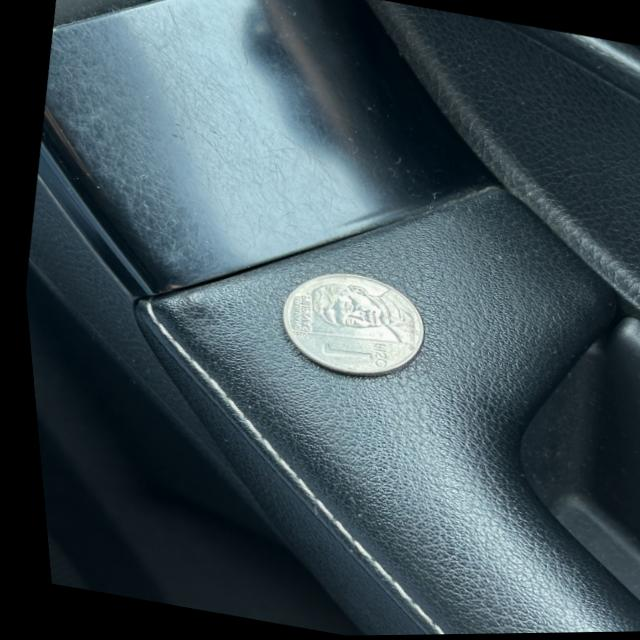1_New_Front: (311, 328, 397, 383)
